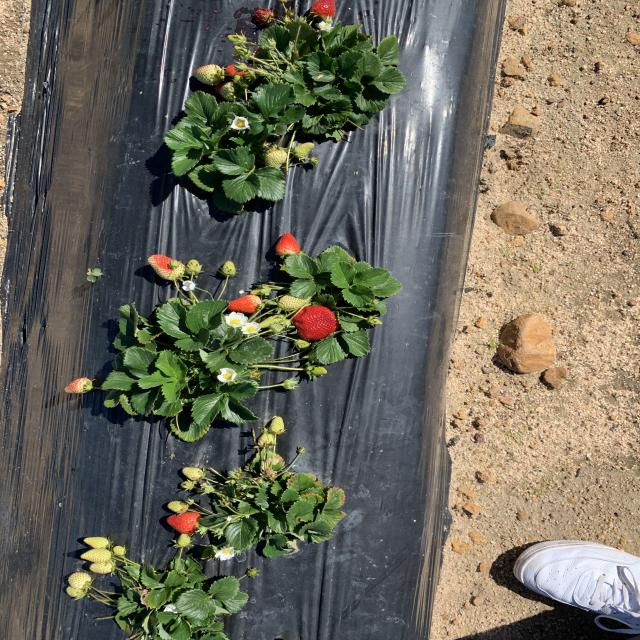unripe: (288, 302, 341, 343), (227, 294, 263, 314), (168, 513, 202, 534), (274, 233, 300, 255), (311, 0, 337, 20), (225, 62, 253, 78), (254, 8, 276, 23)
